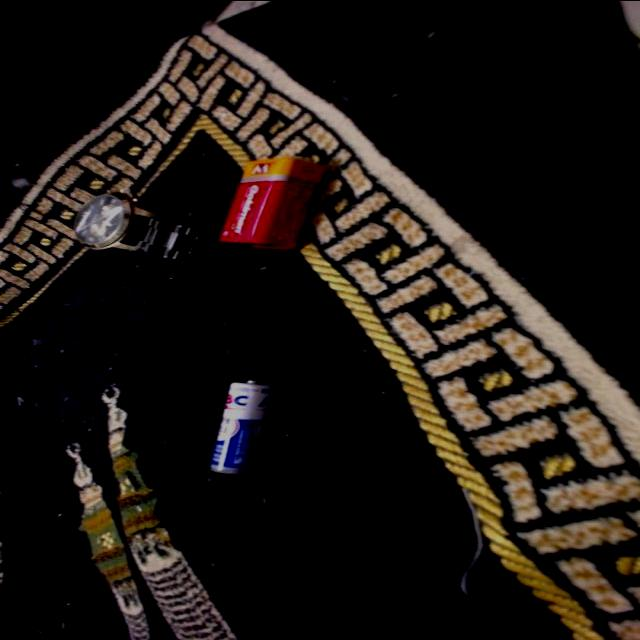9V: (201, 140, 335, 261)
AA: (187, 373, 296, 484)
